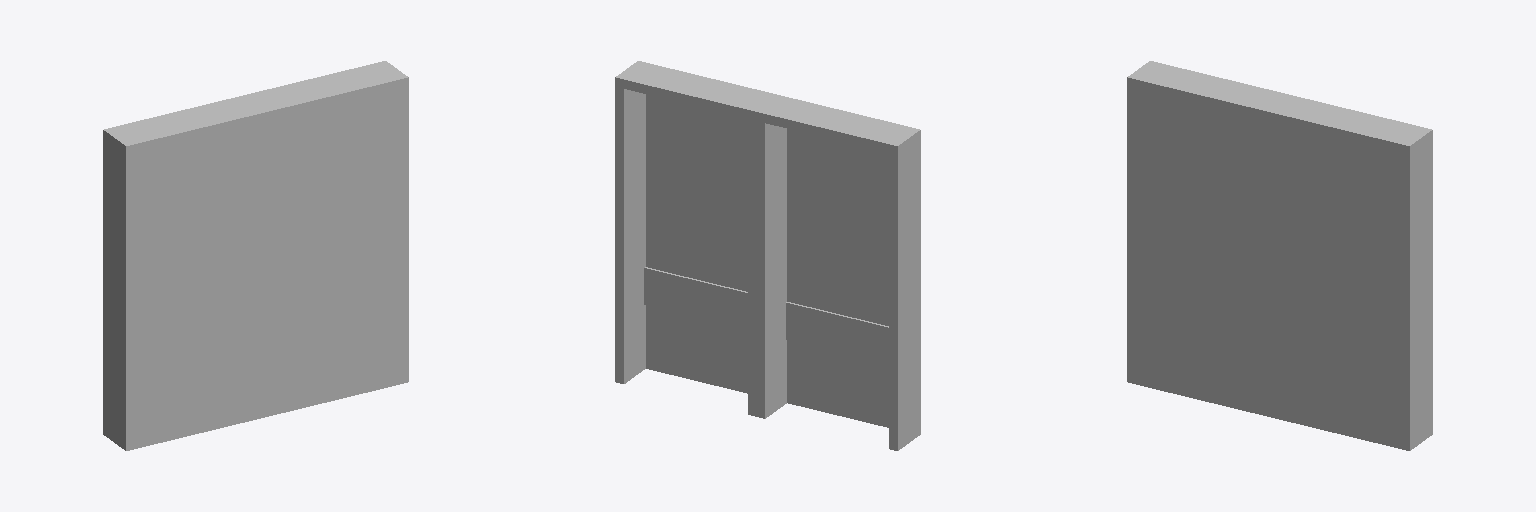
The model's file is metal_bridge_left.obj.
3 renders of one model, left to right at view 1: azimuth 30°, elevation 25°; view 2: azimuth 150°, elevation 25°; view 3: azimuth 330°, elevation 25°, orthographic.
Parts seen in each view (by area): view 1: cube; view 2: cube; view 3: cube.
Part boxes in pixels (x1,y1,x2,y2): cube: (103, 61, 408, 450); cube: (615, 61, 920, 450); cube: (1127, 61, 1432, 450).
Bounding box in the file's own units: 2 × 2.06 × 0.2812.